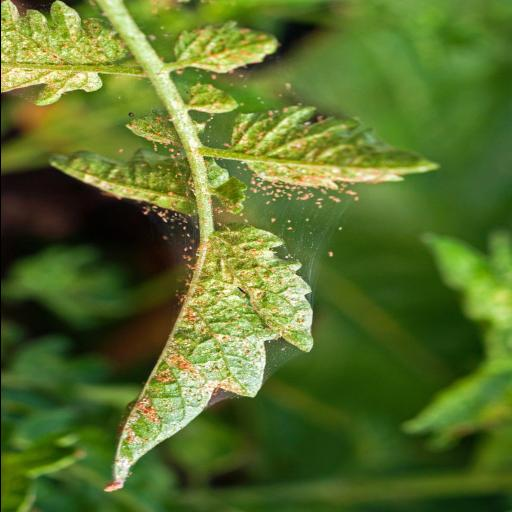Spider Mites: (100, 226, 317, 496), (232, 103, 438, 189), (0, 1, 121, 108), (170, 22, 280, 74)
